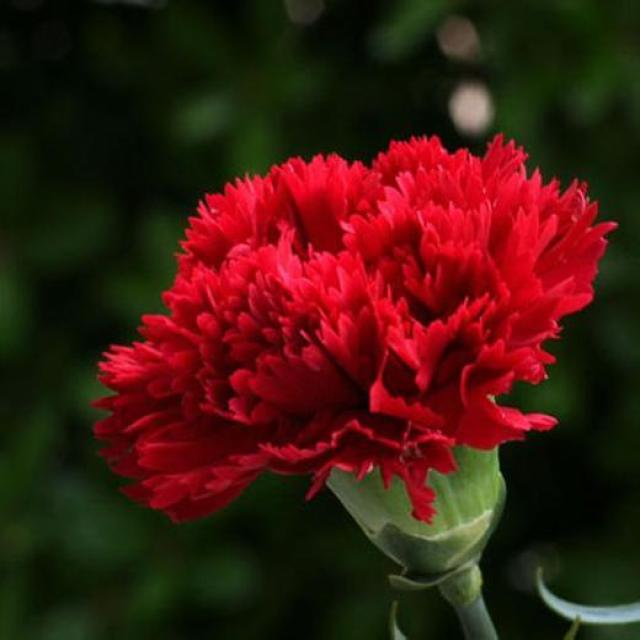carnation: (108, 136, 582, 552)
